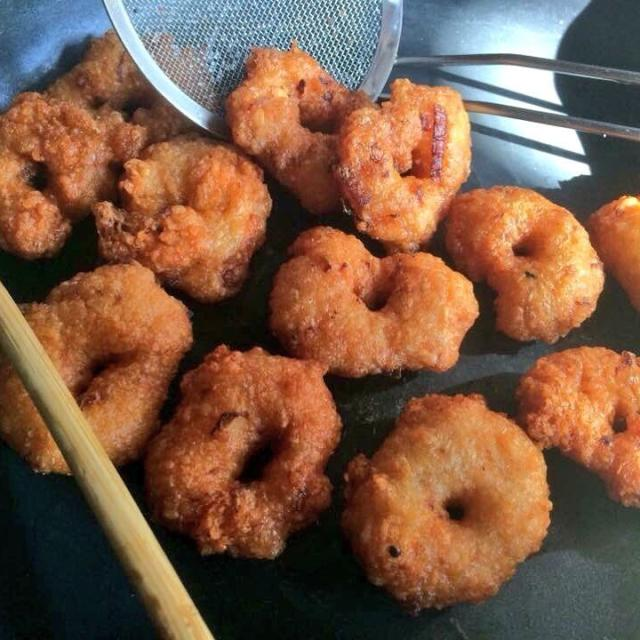Wet Waste: (356, 393, 553, 616), (162, 354, 326, 556), (96, 139, 275, 296), (34, 260, 184, 438), (282, 237, 480, 370), (329, 77, 476, 235), (223, 47, 367, 196), (2, 93, 124, 260), (456, 176, 590, 321), (507, 353, 640, 492)
